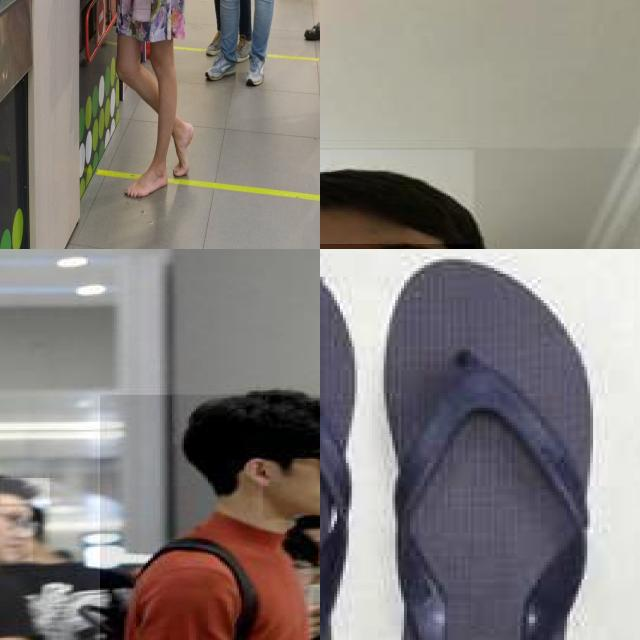Barefoots: (124, 168, 168, 197), (173, 122, 194, 176)
No_Ear-Protection: (239, 456, 277, 488)
Sandals: (320, 249, 640, 640)
face_nomask: (263, 442, 320, 519), (0, 507, 35, 566), (291, 537, 320, 577)
head_nohelmet: (320, 149, 473, 244), (172, 394, 320, 444), (0, 478, 52, 505), (284, 518, 320, 537)
person: (100, 394, 320, 640), (320, 147, 640, 249)
